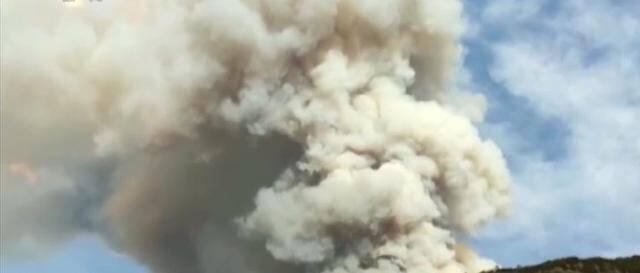smoke: (14, 9, 487, 266)
